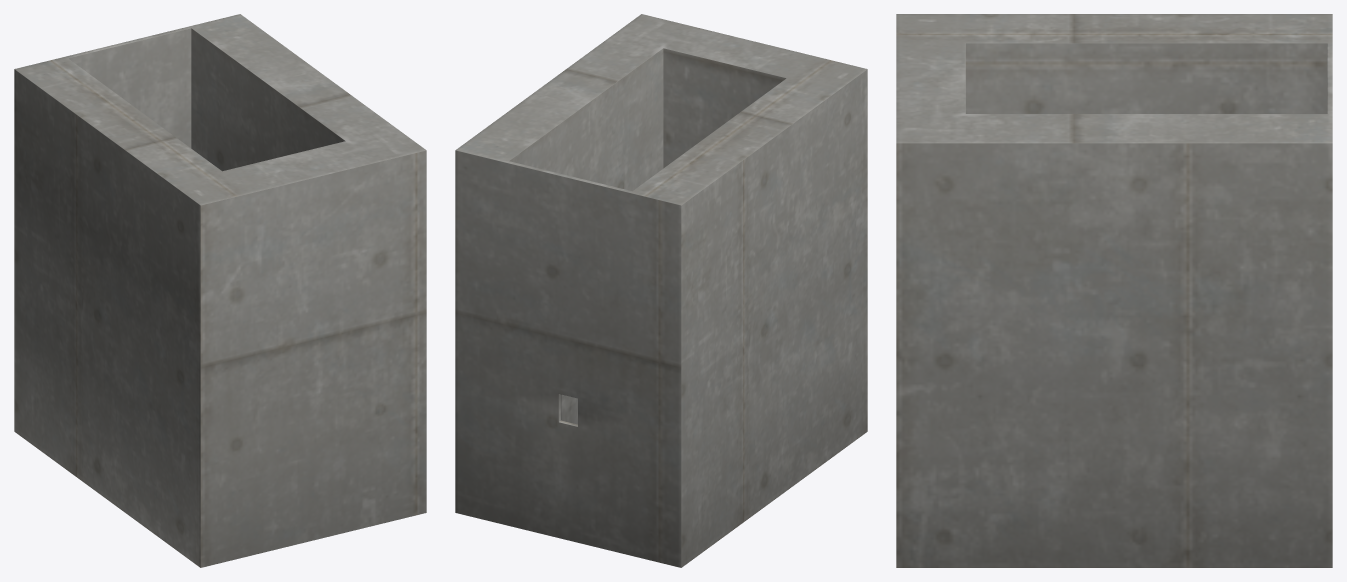
Rendered from Room_01.obj.
3 views of the same model, side by side, from view 1: azimuth 30°, elevation 25°; view 2: azimuth 150°, elevation 25°; view 3: azimuth 270°, elevation 25° (orthographic). The views are drawn at different scales.
Visible parts, largest first — view 1: Room_01_Cube.002; view 2: Room_01_Cube.002; view 3: Room_01_Cube.002.
Boxes of the visible parts, <box> form: Room_01_Cube.002: <box>14,14,426,567</box>; Room_01_Cube.002: <box>455,14,867,567</box>; Room_01_Cube.002: <box>896,14,1332,567</box>.
Size of the model in its own units: 22 by 33.72 by 31.4.
